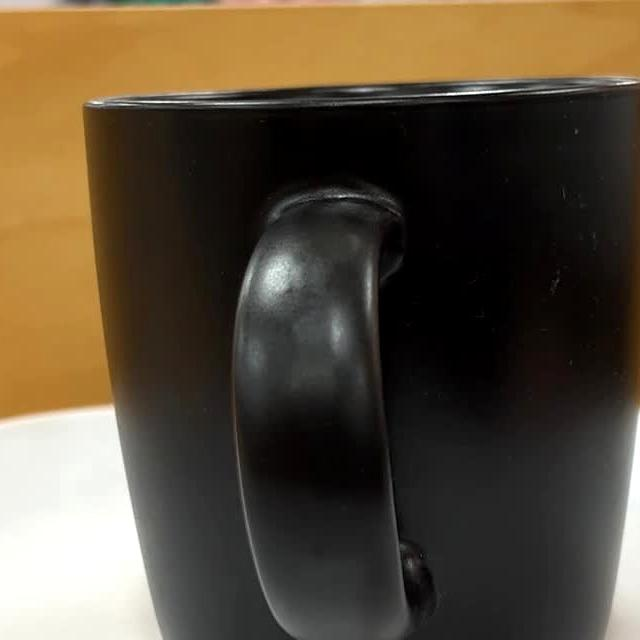cup: (90, 84, 640, 640)
